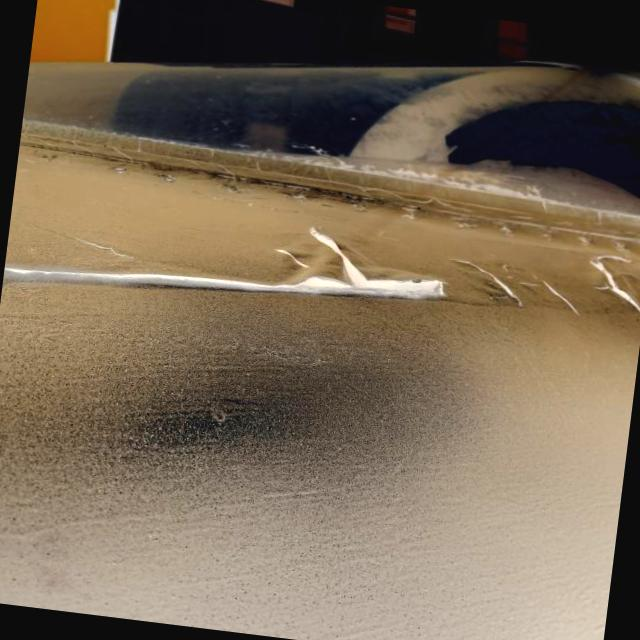crack: (420, 248, 596, 318), (257, 246, 314, 272), (85, 240, 152, 262)
